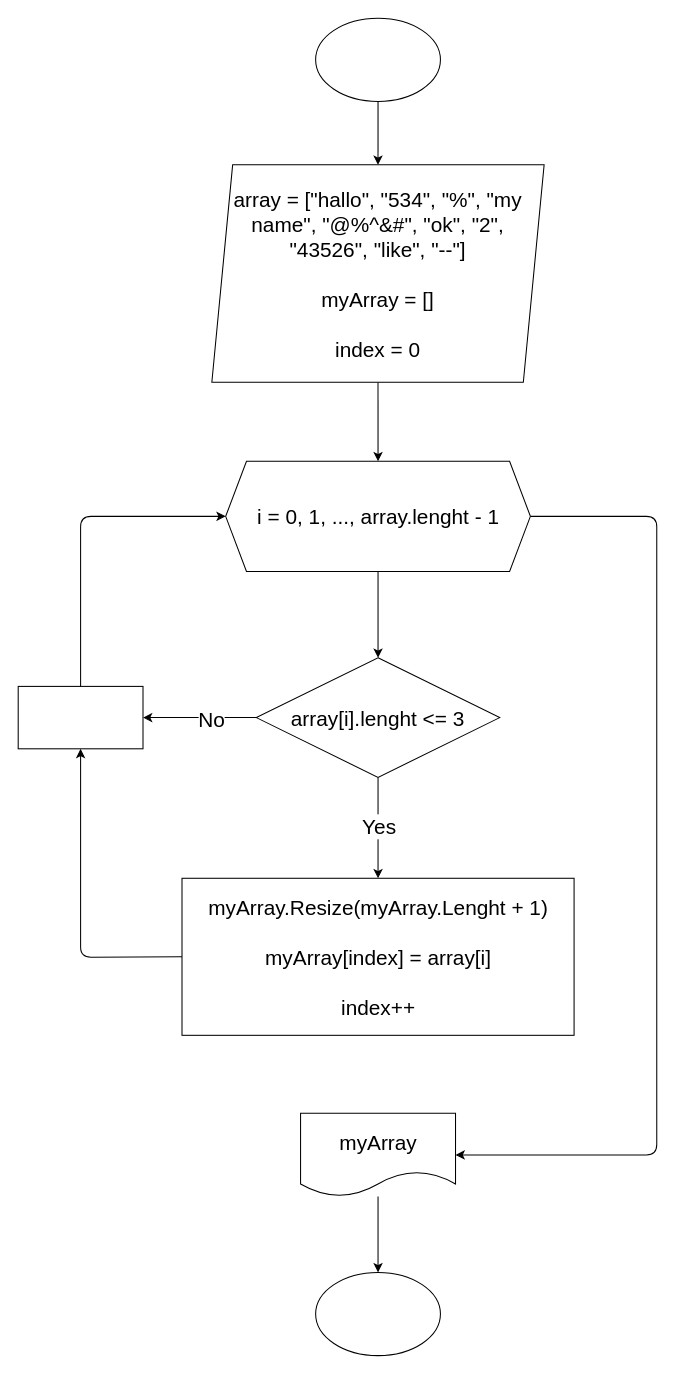
This 683x1374 diagram has some shape labels left out. Here are the shapes that lost their labels. From the top down, the box of each, then its label:
(315, 17, 440, 101): Start
(17, 685, 143, 749): i++
(315, 1271, 440, 1356): End
